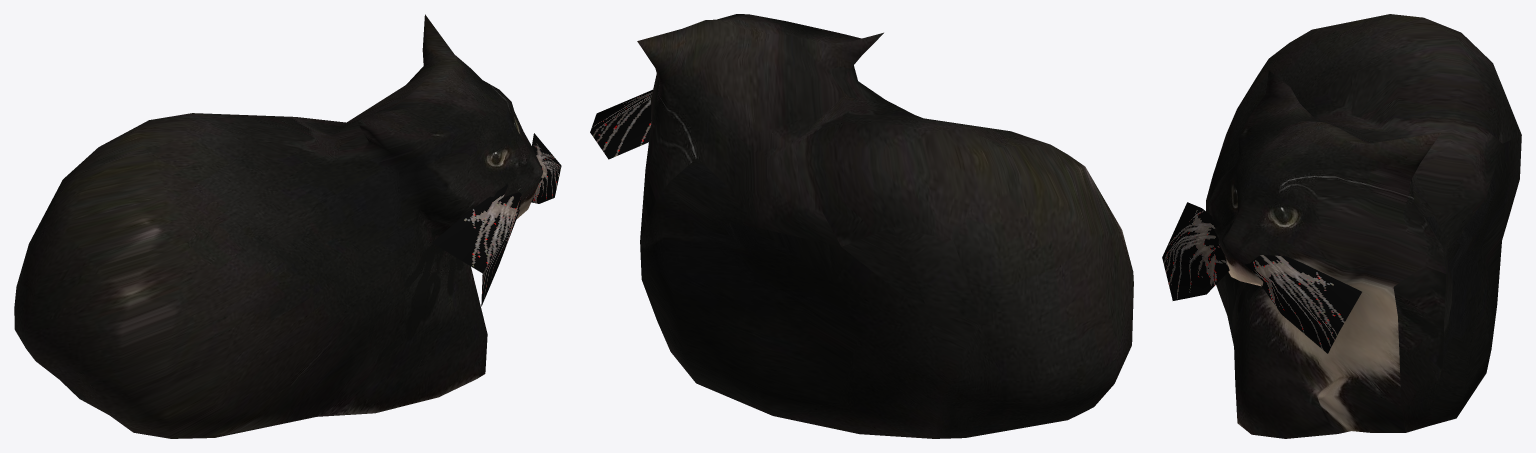
Rendered from maxwell2.fbx.
3 renders of one model, left to right at view 1: azimuth 30°, elevation 25°; view 2: azimuth 150°, elevation 25°; view 3: azimuth 270°, elevation 25°, orthographic. The views are drawn at different scales.
Visible parts, largest first — view 1: dingus_dingus_0.001, dingus_whiskers_0.001; view 2: dingus_dingus_0.001, dingus_whiskers_0.001; view 3: dingus_dingus_0.001, dingus_whiskers_0.001.
Boxes of the visible parts, x1=… form: dingus_dingus_0.001: x1=14, y1=14, x2=542, y2=438; dingus_whiskers_0.001: x1=432, y1=133, x2=561, y2=306; dingus_dingus_0.001: x1=637, y1=14, x2=1133, y2=438; dingus_whiskers_0.001: x1=590, y1=89, x2=652, y2=159; dingus_dingus_0.001: x1=1206, y1=14, x2=1521, y2=438; dingus_whiskers_0.001: x1=1162, y1=202, x2=1361, y2=353.
Bounding box in the file's own units: 3323 × 1921 × 1875.
